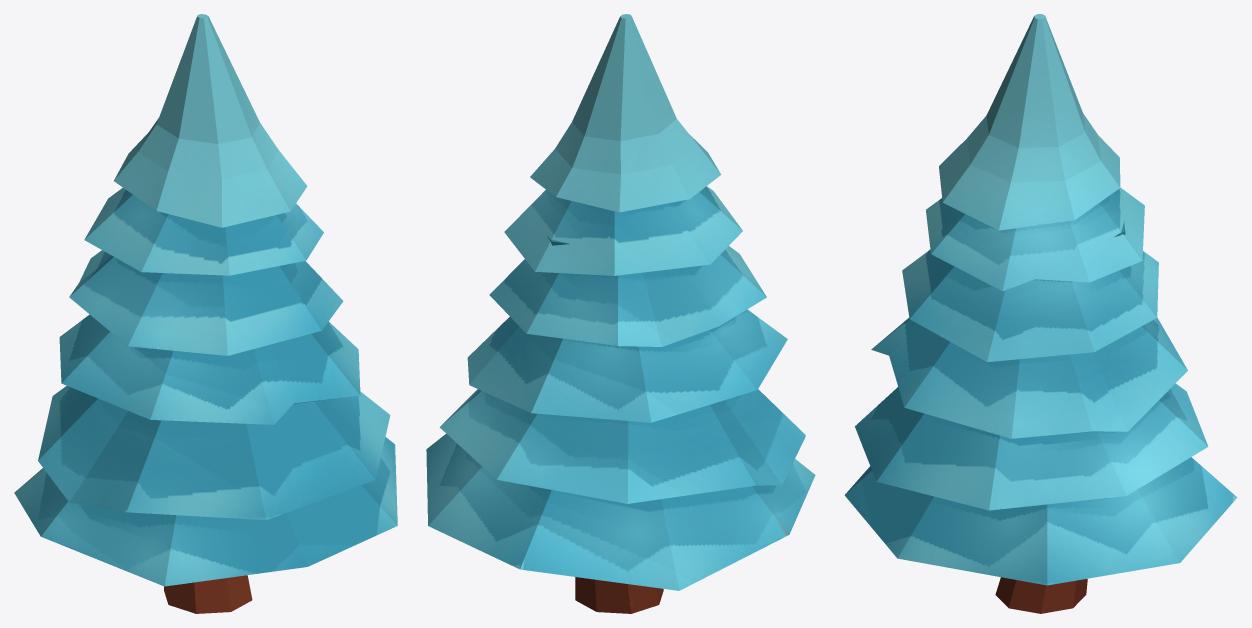
File: Small Coniferous Tree.fbx
3 renders of one model, left to right at view 1: azimuth 30°, elevation 25°; view 2: azimuth 150°, elevation 25°; view 3: azimuth 270°, elevation 25°, orthographic.
Visible parts, largest first — view 1: Small Coniferous; view 2: Small Coniferous; view 3: Small Coniferous.
Part boxes in pixels (bbox=[...]): Small Coniferous: bbox=[14, 14, 397, 613]; Small Coniferous: bbox=[426, 14, 815, 613]; Small Coniferous: bbox=[844, 14, 1237, 613].
Size of the model in its own units: 727 by 1125 by 696.
